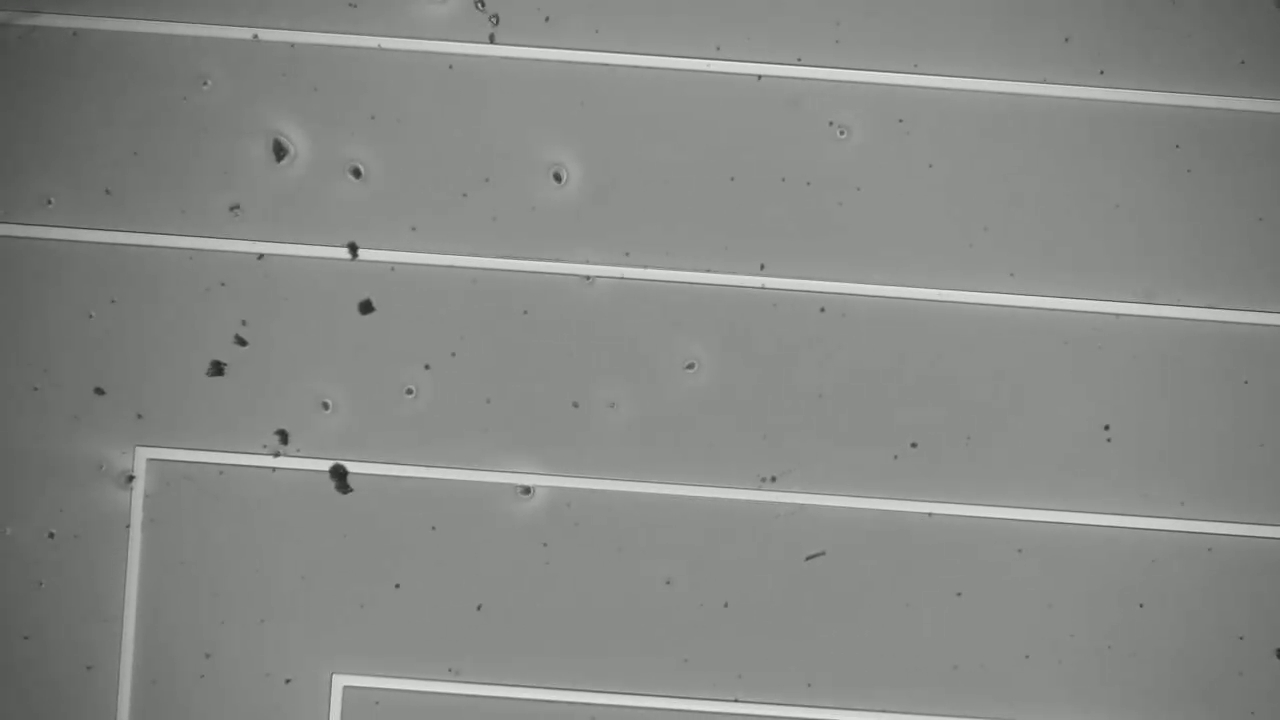stains_enbedded: (323, 446, 364, 499), (338, 234, 371, 269)
